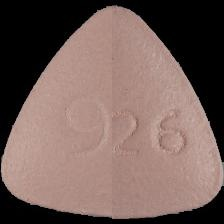43063-131: (0, 0, 224, 224)
